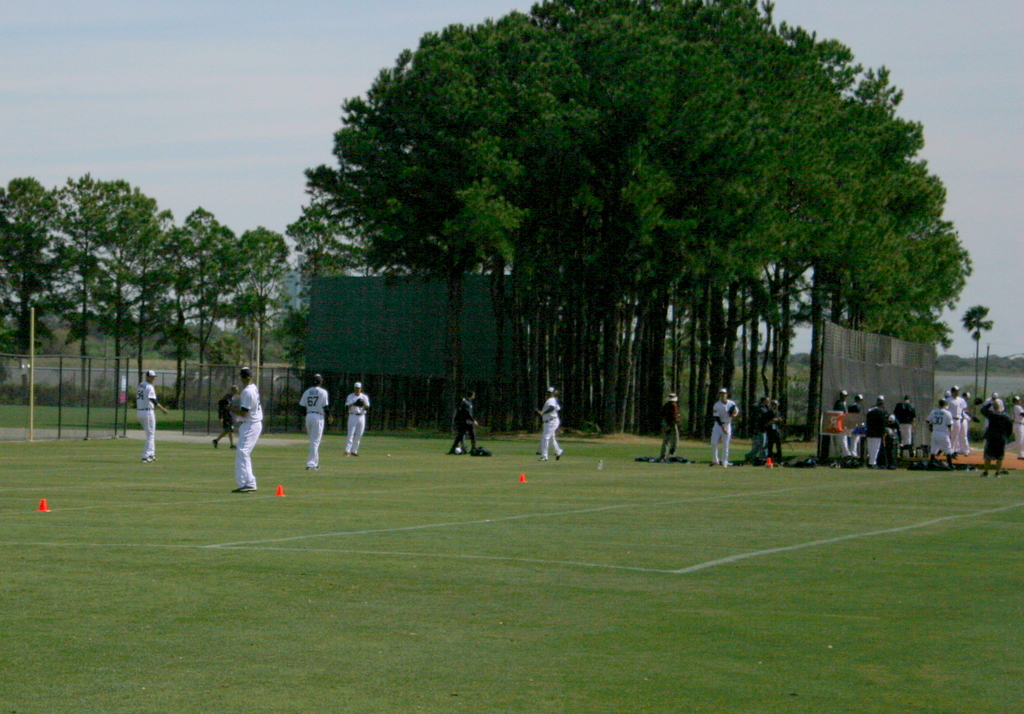tree: (284, 1, 974, 438)
